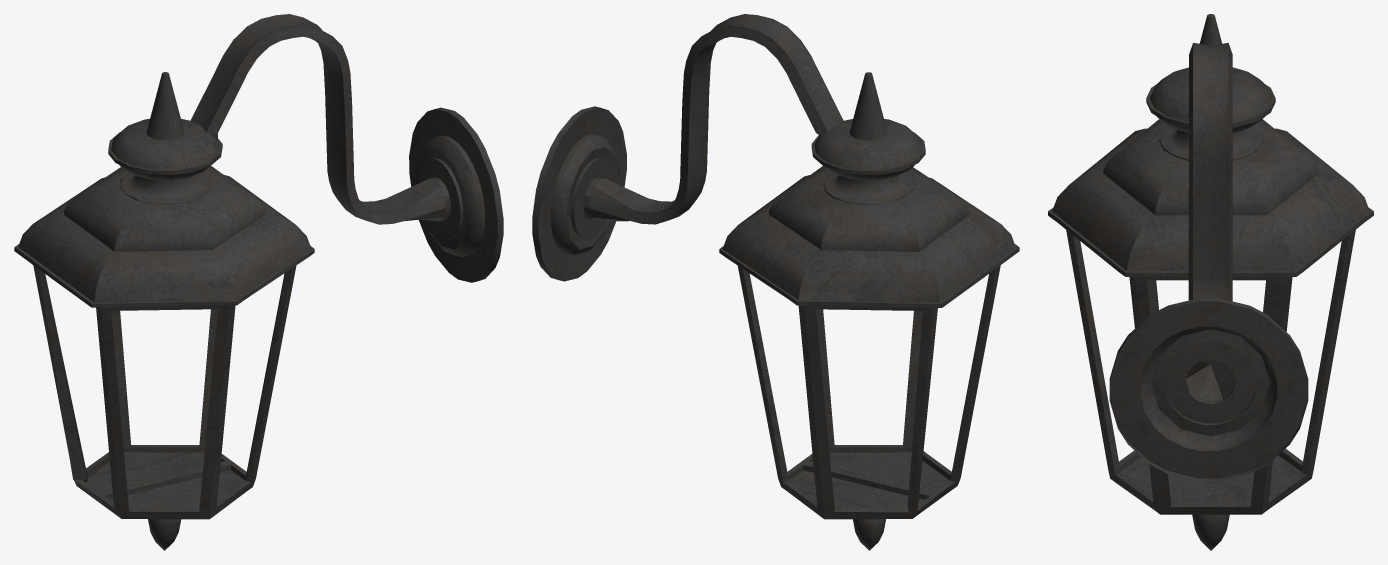
Rendered from old_black_sconce.glb.
3 renders of one model, left to right at view 1: azimuth 30°, elevation 25°; view 2: azimuth 150°, elevation 25°; view 3: azimuth 270°, elevation 25°, orthographic. The views are drawn at different scales.
Parts seen in each view (by area): view 1: Cylinder.006; view 2: Cylinder.006; view 3: Cylinder.006.
Boxes of the visible parts, x1,y1,x2,y2 form: Cylinder.006: (14, 14, 503, 550); Cylinder.006: (532, 14, 1019, 550); Cylinder.006: (1048, 14, 1373, 550).
Size of the model in its own units: 2.91 by 3.44 by 1.8.
Materials: 1 (1 with a texture image).
